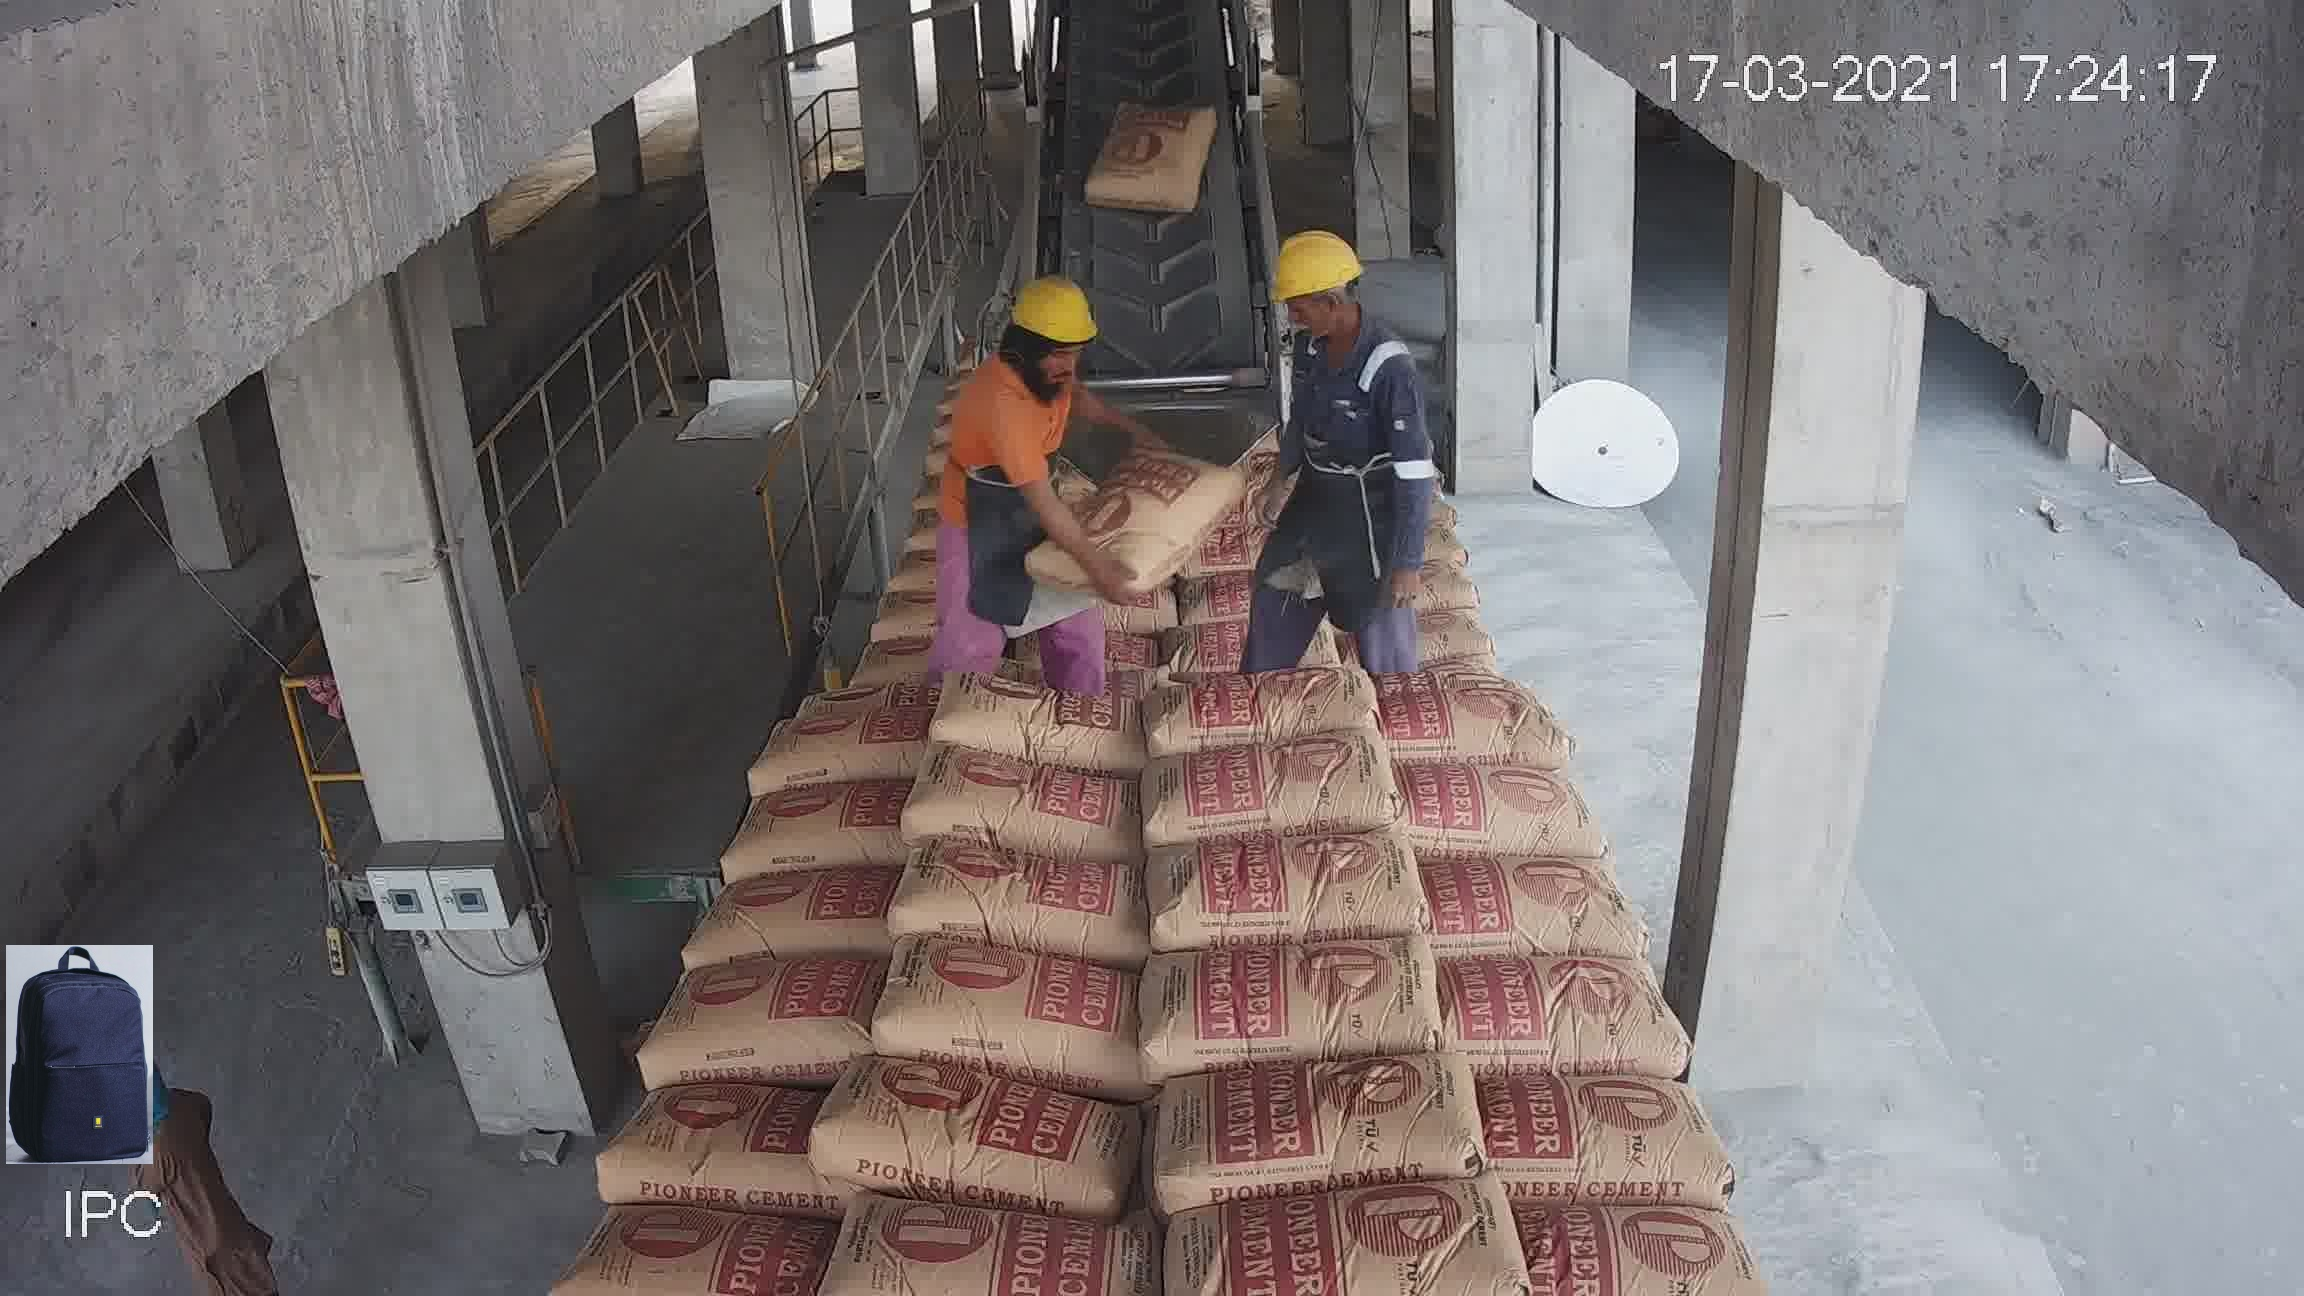bag: (995, 323, 1158, 413), (1100, 82, 1196, 184)
bag_h: (1087, 1048, 1478, 1222), (842, 1036, 1135, 1199), (1152, 1184, 1510, 1296), (824, 1187, 1174, 1296), (1464, 1060, 1720, 1207), (896, 937, 1139, 1081), (628, 957, 889, 1090), (589, 1070, 823, 1193), (1163, 957, 1445, 1059), (880, 946, 1101, 1071), (661, 855, 899, 970), (1146, 831, 1408, 930), (1468, 946, 1696, 1059), (913, 671, 1150, 775), (576, 1190, 839, 1283), (935, 593, 1169, 696), (889, 850, 1131, 948), (1530, 1192, 1761, 1293), (737, 703, 956, 809), (1396, 760, 1608, 862), (1163, 739, 1388, 832), (1427, 870, 1643, 961), (737, 779, 938, 873), (911, 761, 1139, 843), (1136, 673, 1372, 748), (772, 581, 965, 673), (1136, 540, 1380, 609), (767, 630, 951, 712), (949, 552, 1161, 622), (1152, 595, 1372, 661), (965, 497, 1152, 571), (1130, 497, 1348, 559), (1160, 441, 1332, 517), (1385, 692, 1551, 769), (1370, 623, 1571, 684), (824, 529, 987, 592), (1351, 559, 1514, 620), (981, 470, 1150, 524), (1301, 404, 1448, 460), (824, 494, 987, 543), (1305, 369, 1426, 434), (1339, 460, 1503, 506), (1351, 519, 1500, 563), (1305, 331, 1407, 386), (1302, 316, 1397, 354)
belt: (1052, 9, 1263, 275)
